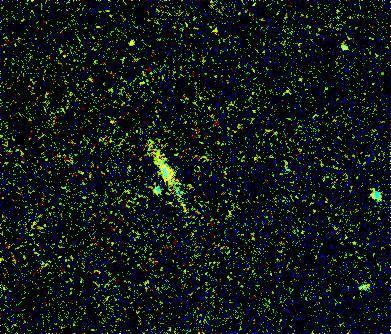star: (111, 22, 141, 52)
